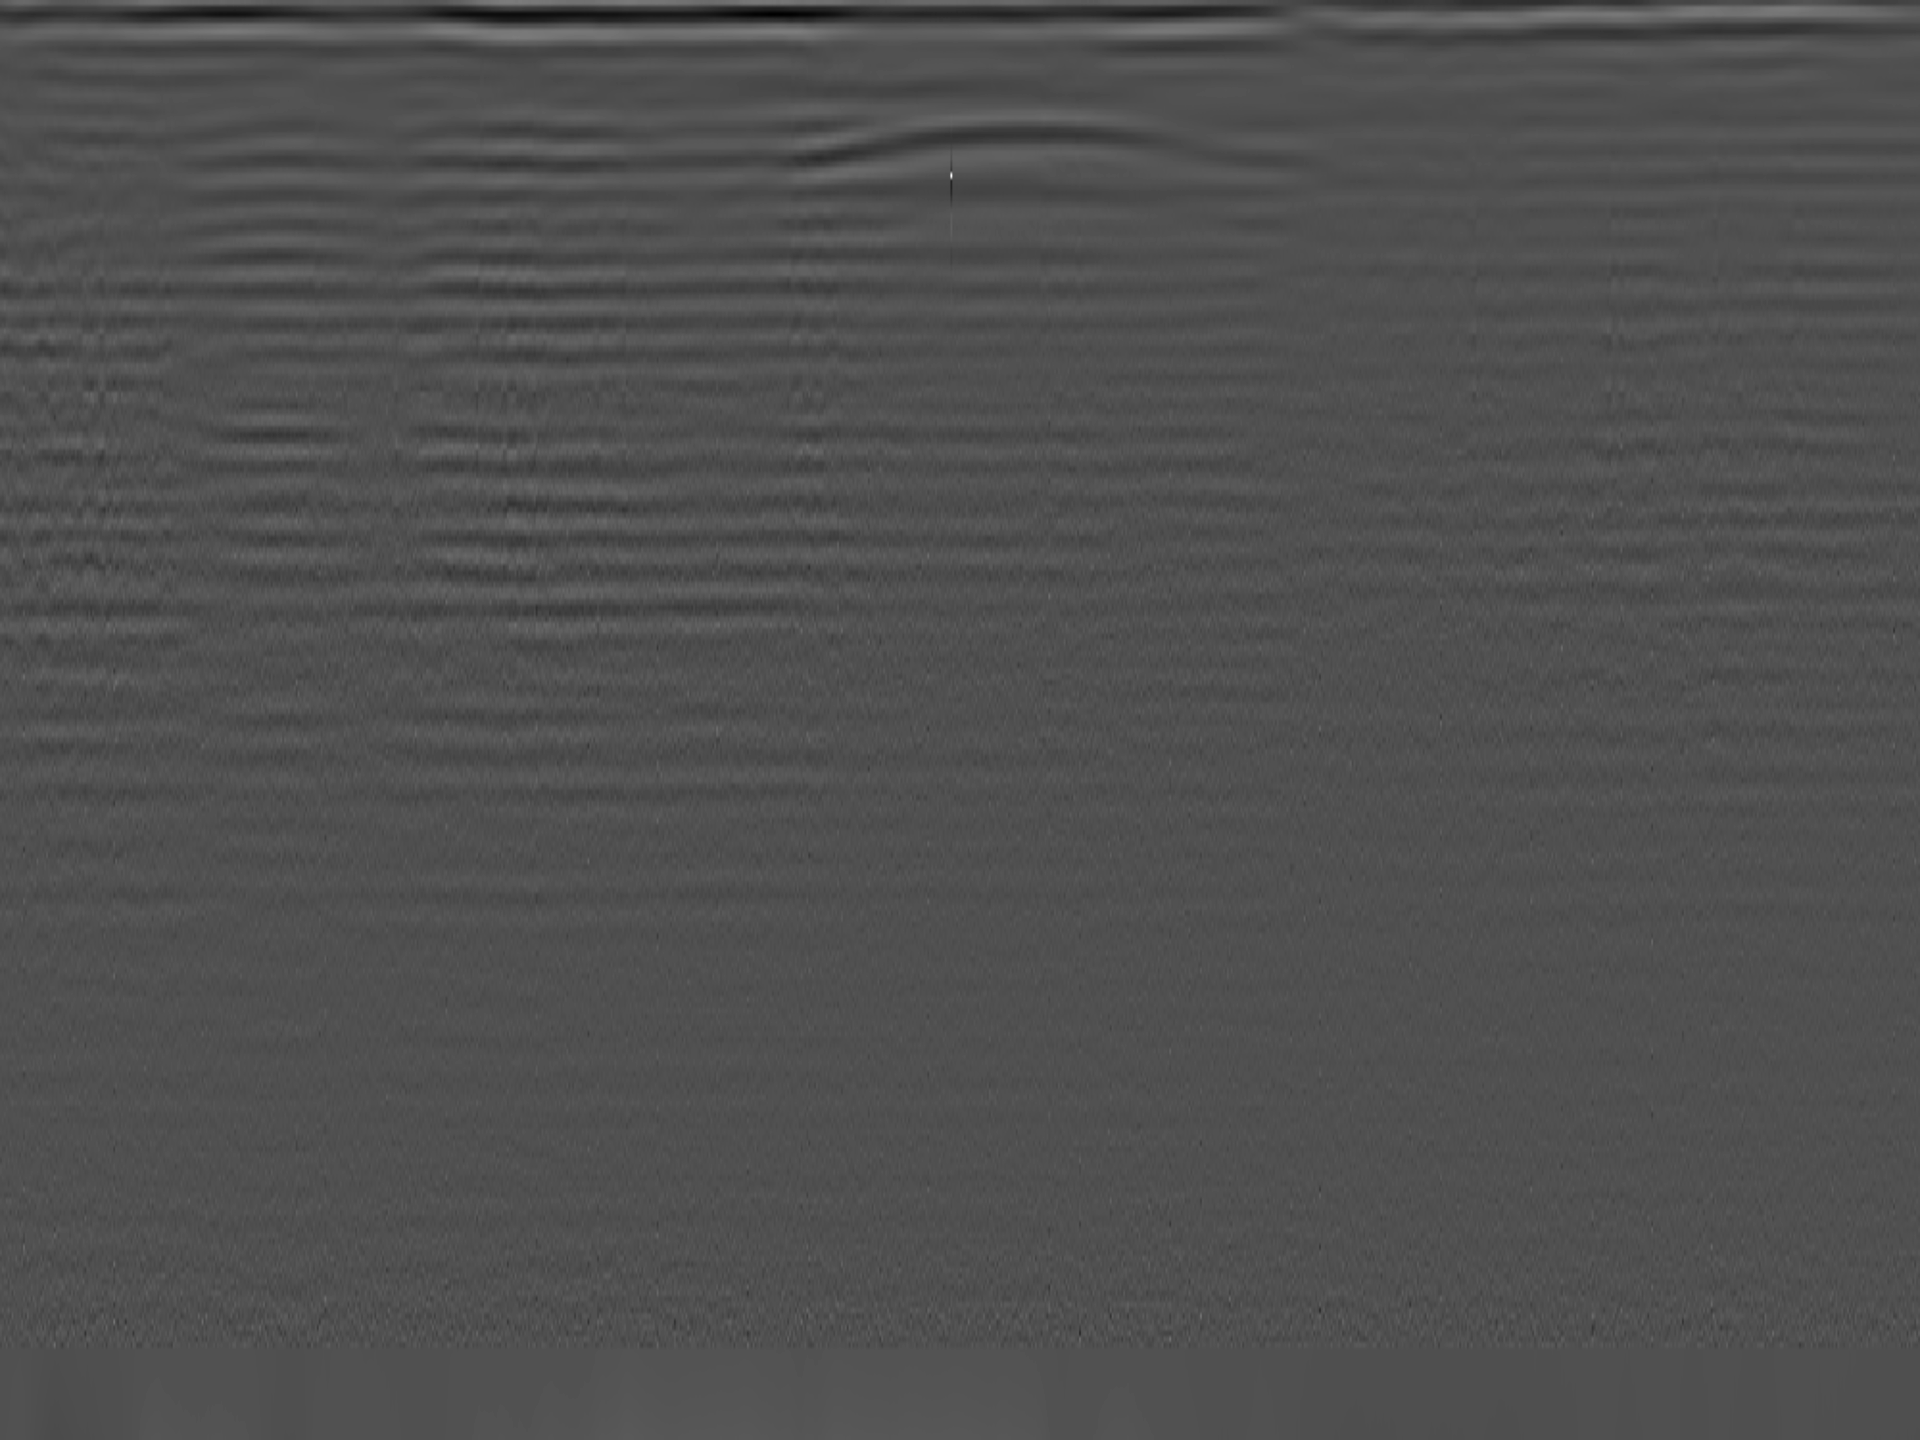Tunnel: (771, 112, 1353, 175)
